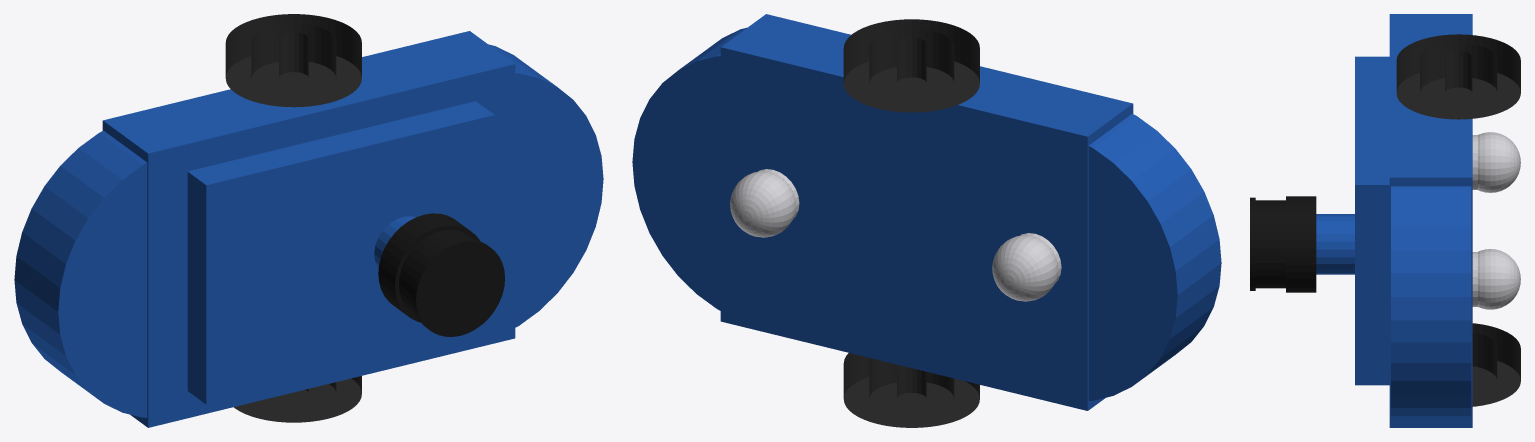
File: coppeliabot_assembly.obj
The picture shows the model from 3 angles, left to right: view 1: azimuth 30°, elevation 25°; view 2: azimuth 150°, elevation 25°; view 3: azimuth 270°, elevation 25°; orthographic projection. The views are drawn at different scales.
Visible parts, largest first — view 1: Chassis, LidarScanner, LeftWheel, RightWheel; view 2: Chassis, LeftWheel, RightWheel, RearCaster, FrontCaster; view 3: Chassis, LeftWheel, LidarScanner, RightWheel, FrontCaster, RearCaster.
Part boxes in pixels (left/top/right/bottom): Chassis: left=14, top=31, right=603, bottom=427; LidarScanner: left=378, top=213, right=504, bottom=336; LeftWheel: left=225, top=14, right=361, bottom=107; RightWheel: left=234, top=376, right=361, bottom=422; Chassis: left=632, top=14, right=1221, bottom=410; LeftWheel: left=843, top=19, right=979, bottom=112; RightWheel: left=843, top=353, right=979, bottom=427; RearCaster: left=992, top=233, right=1061, bottom=301; FrontCaster: left=730, top=169, right=799, bottom=237; Chassis: left=1316, top=14, right=1472, bottom=427; LeftWheel: left=1396, top=34, right=1520, bottom=119; LidarScanner: left=1250, top=196, right=1316, bottom=292; RightWheel: left=1472, top=323, right=1520, bottom=406; FrontCaster: left=1472, top=249, right=1520, bottom=309; RearCaster: left=1472, top=132, right=1520, bottom=192.
Size of the model in its own units: 0.416 by 0.262 by 0.196.
